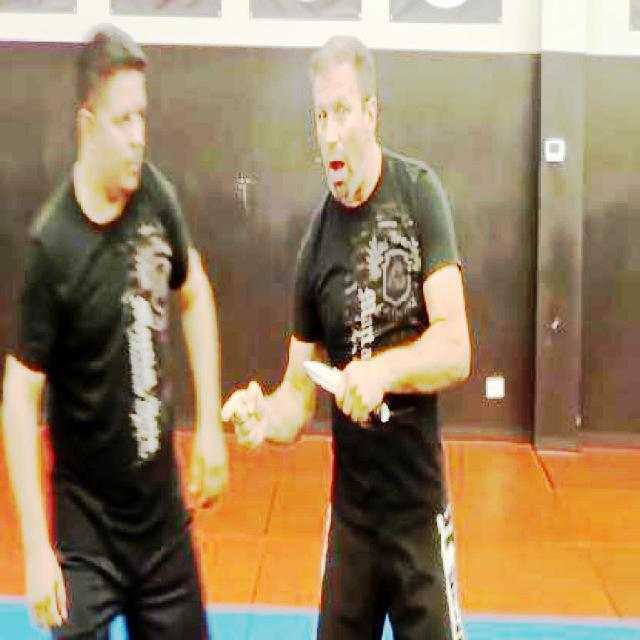Knife: (296, 349, 387, 424)
